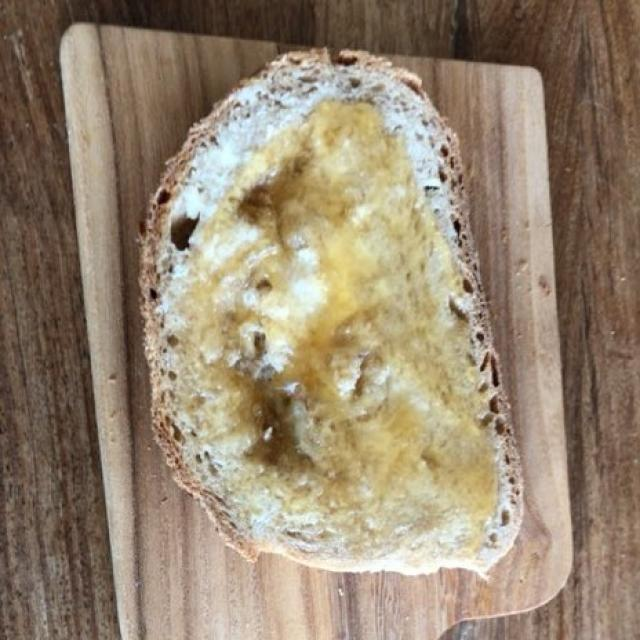bread: (148, 56, 501, 552)
butter: (212, 104, 446, 533)
honey: (186, 126, 474, 518)
